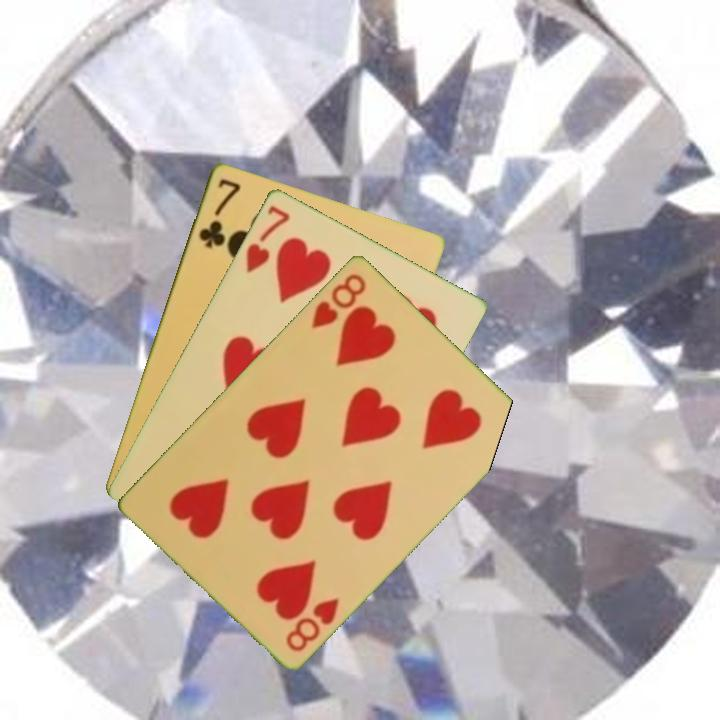7c: (195, 174, 244, 251)
7h: (242, 201, 293, 276)
8h: (307, 269, 369, 331), (282, 593, 342, 655)
